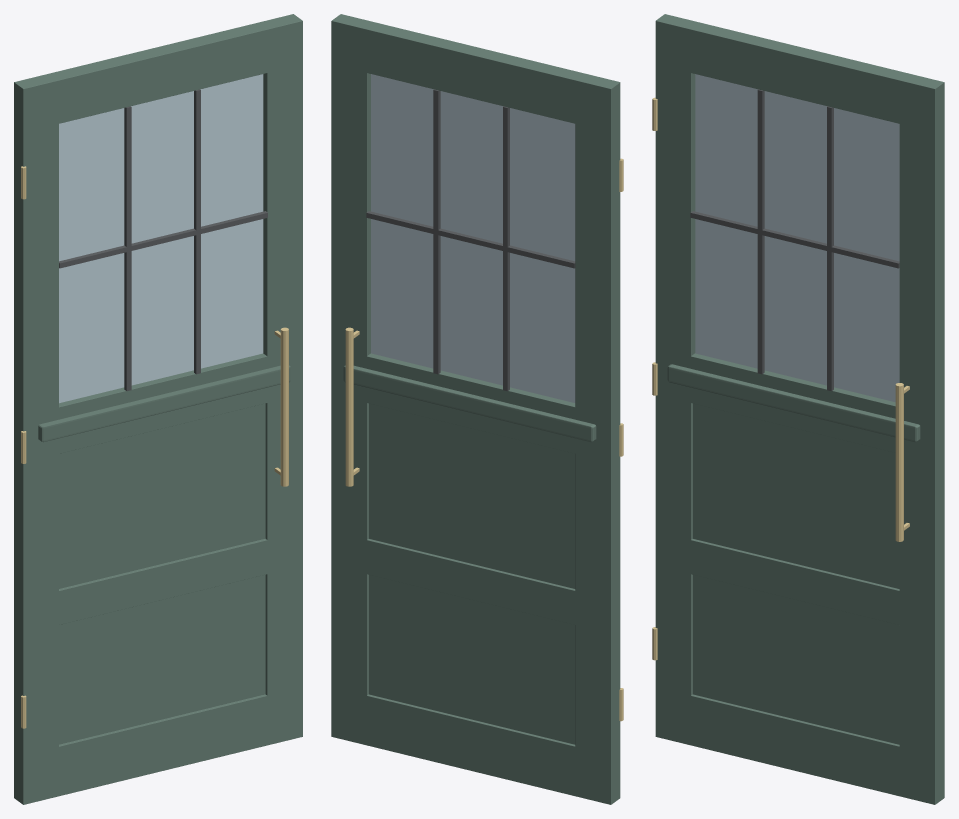
File: door_leaf_front.glb
3 views of the same model, side by side, from view 1: azimuth 30°, elevation 25°; view 2: azimuth 150°, elevation 25°; view 3: azimuth 330°, elevation 25° (orthographic).
Parts seen in each view (by area): view 1: door_leaf_front_door, door_leaf_front_glass, door_leaf_front_iron, door_leaf_front_brass; view 2: door_leaf_front_door, door_leaf_front_glass, door_leaf_front_iron, door_leaf_front_brass; view 3: door_leaf_front_door, door_leaf_front_glass, door_leaf_front_iron, door_leaf_front_brass.
Boxes of the visible parts, <box> form: door_leaf_front_door: <box>14,14,302,804</box>; door_leaf_front_glass: <box>59,74,263,403</box>; door_leaf_front_iron: <box>59,89,267,391</box>; door_leaf_front_brass: <box>21,166,288,728</box>; door_leaf_front_door: <box>331,14,620,804</box>; door_leaf_front_glass: <box>371,74,575,402</box>; door_leaf_front_iron: <box>366,89,575,391</box>; door_leaf_front_brass: <box>345,158,623,721</box>; door_leaf_front_door: <box>655,14,944,804</box>; door_leaf_front_glass: <box>695,74,899,402</box>; door_leaf_front_iron: <box>690,89,899,391</box>; door_leaf_front_brass: <box>652,97,909,660</box>.
Bounding box in the file's own units: 0.948 × 2.3 × 0.1778.
